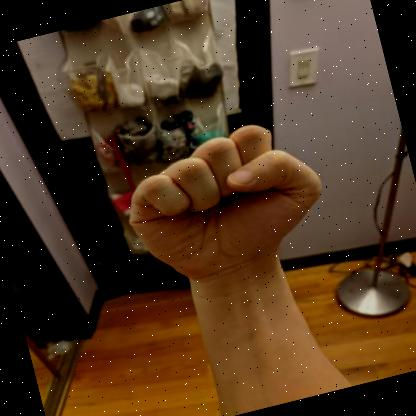S: (129, 124, 322, 287)
